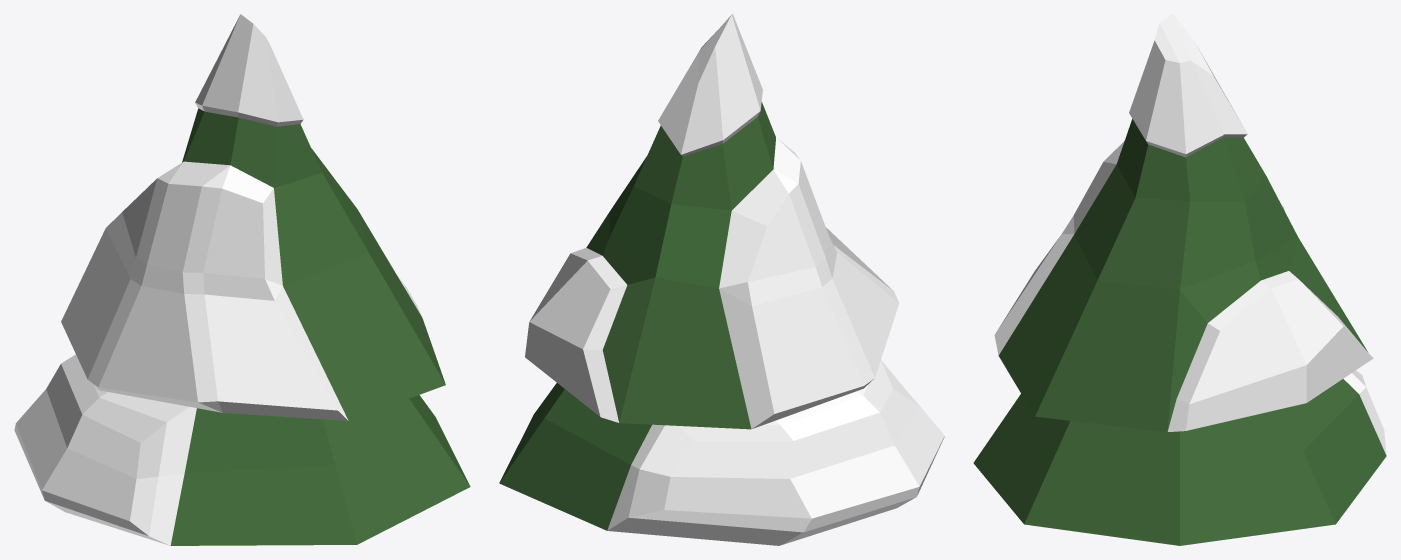
File: Tree1.fbx
3 views of the same model, side by side, from view 1: azimuth 30°, elevation 25°; view 2: azimuth 150°, elevation 25°; view 3: azimuth 270°, elevation 25° (orthographic). The views are drawn at different scales.
Visible parts, largest first — view 1: Cube; view 2: Cube; view 3: Cube.
Part boxes in pixels (box(x1,y1,x2,y2)): Cube: box(14, 14, 470, 545); Cube: box(499, 14, 944, 545); Cube: box(973, 14, 1386, 545).
Size of the model in its own units: 326 by 404 by 307.
